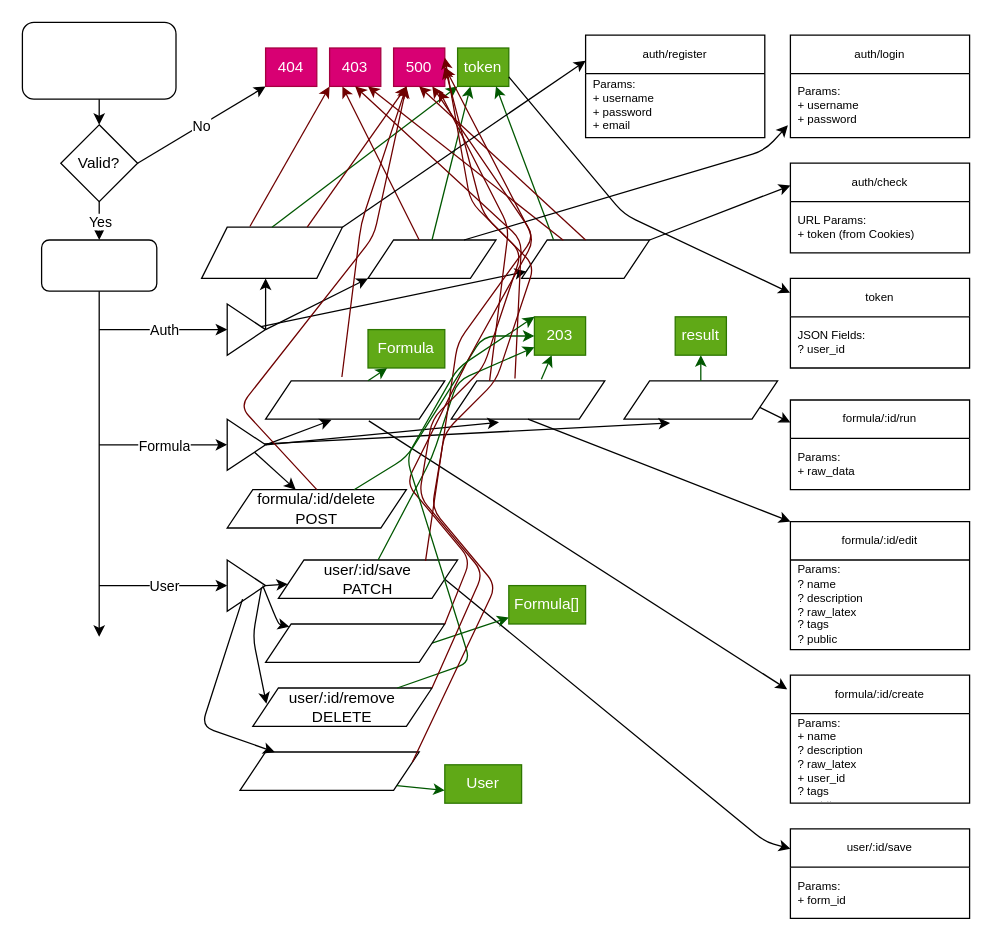
The diagram is 992 pixels wide and 941 high, and some of its shapes have lost their labels. The shapes that lost their labels are listed below. From the top down, each one's centre as x and y in pixels, then its label:
point (98, 60): Request
point (98, 265): Request Type
point (271, 252): /auth/register POST
point (431, 258): /auth/login POST
point (585, 258): /auth/check GET
point (354, 399): formula/create POST
point (527, 399): formula/:id/edit PATCH
point (700, 399): formula/:id/run POST
point (354, 642): user/:id/formulas GET
point (329, 770): user/:id/ GET
